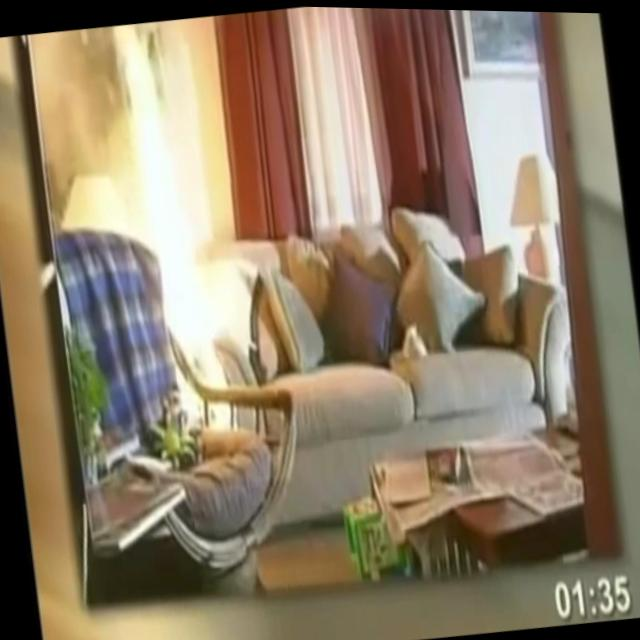fire: (101, 16, 228, 415)
